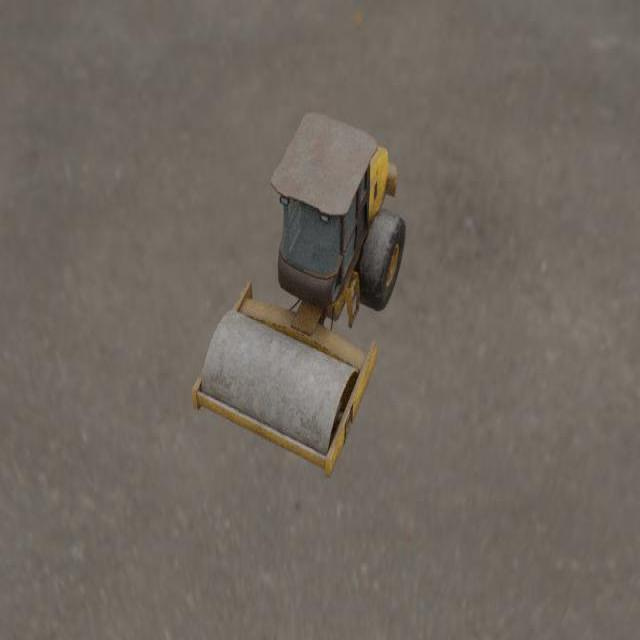Roller: (191, 112, 406, 479)
